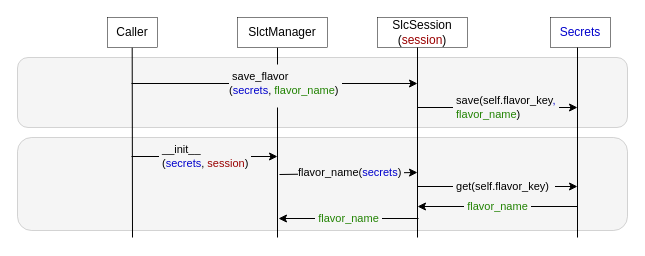
The diagram is 645 pixels wide and 256 high, and some of its shapes have lost their labels. Here are the shapes that lost their labels. From the top down, the box of each, then its label:
(17, 57, 627, 127): Save flavor name (session)
(17, 137, 627, 230): Build SLC
